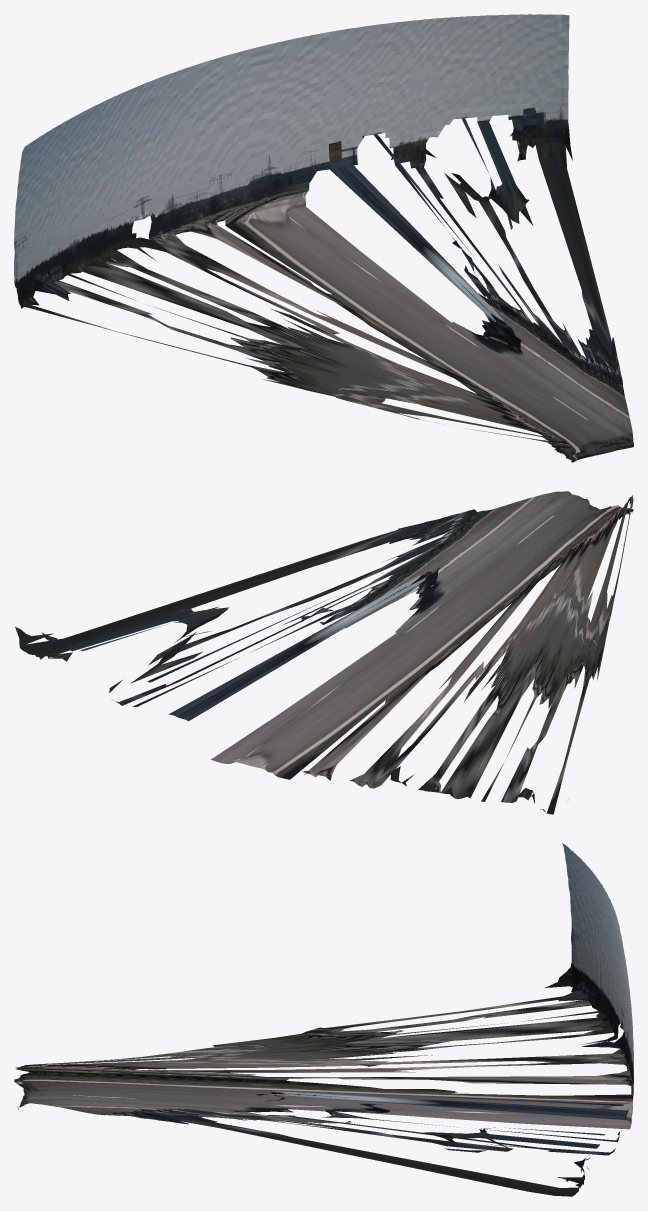
3 renders of one model, top to bottom at view 1: azimuth 30°, elevation 25°; view 2: azimuth 150°, elevation 25°; view 3: azimuth 270°, elevation 25°, orthographic. The views are drawn at different scales.
Visible parts, largest first — view 1: defaultobject; view 2: defaultobject; view 3: defaultobject.
Part boxes in pixels (x1,y1,x2,y2): defaultobject: (14, 14, 633, 462); defaultobject: (15, 491, 633, 814); defaultobject: (14, 843, 633, 1196).
Size of the model in its own units: 41.14 by 12.56 by 44.66.
1 material, 1 textured.
